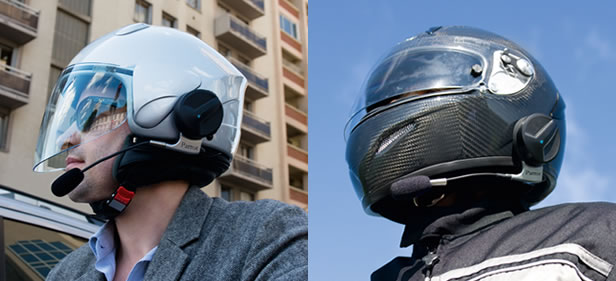helmet: (351, 41, 568, 194), (66, 33, 246, 178)
